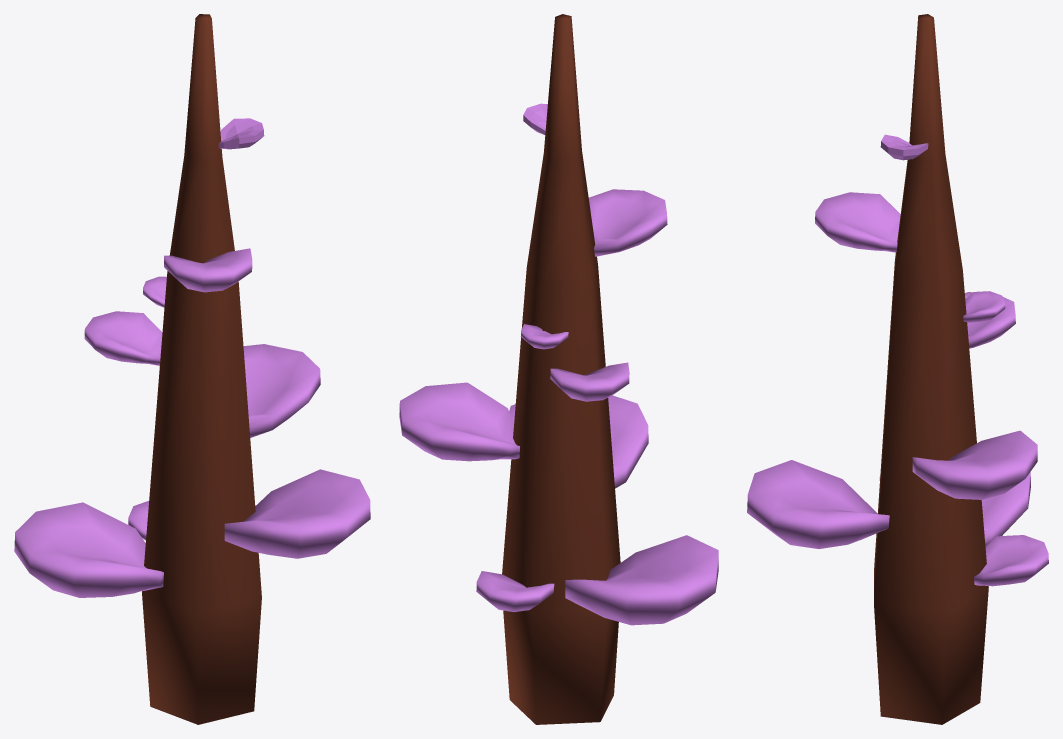
The model's file is hongo.fbx.
3 renders of one model, left to right at view 1: azimuth 30°, elevation 25°; view 2: azimuth 150°, elevation 25°; view 3: azimuth 270°, elevation 25°, orthographic.
Parts seen in each view (by area): view 1: Cylinder.020, Sphere.009; view 2: Cylinder.020, Sphere.009; view 3: Cylinder.020, Sphere.009.
Boxes of the visible parts, x1=… form: Cylinder.020: x1=142, y1=14, x2=261, y2=724; Sphere.009: x1=14, y1=118, x2=370, y2=597; Cylinder.020: x1=502, y1=14, x2=620, y2=724; Sphere.009: x1=399, y1=103, x2=718, y2=625; Cylinder.020: x1=874, y1=14, x2=988, y2=724; Sphere.009: x1=747, y1=134, x2=1048, y2=586.
Size of the model in its own units: 536 by 1190 by 475.
